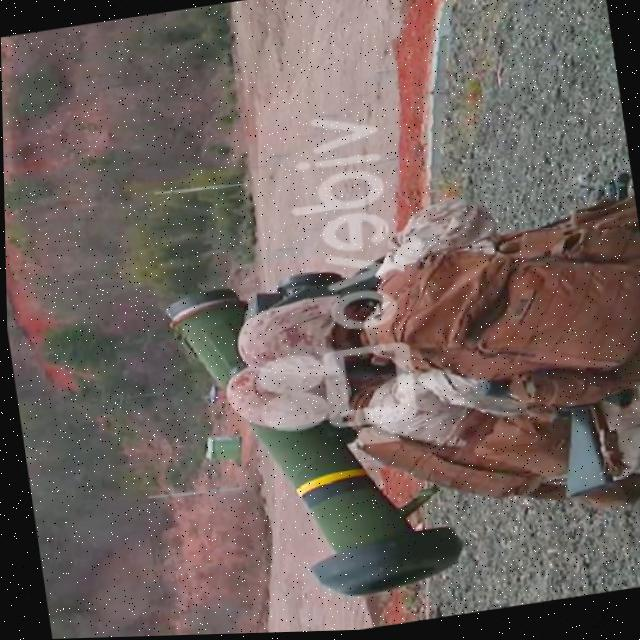rocket: (146, 259, 472, 625)
